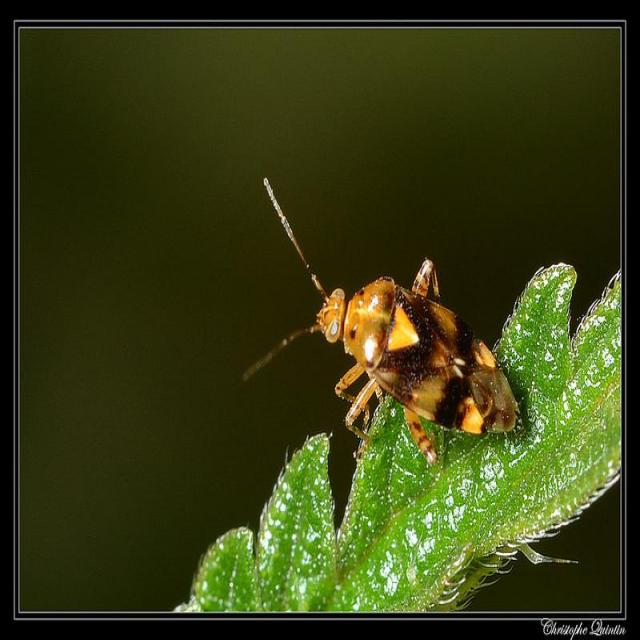Miridae-Adult-: (236, 158, 519, 461)
